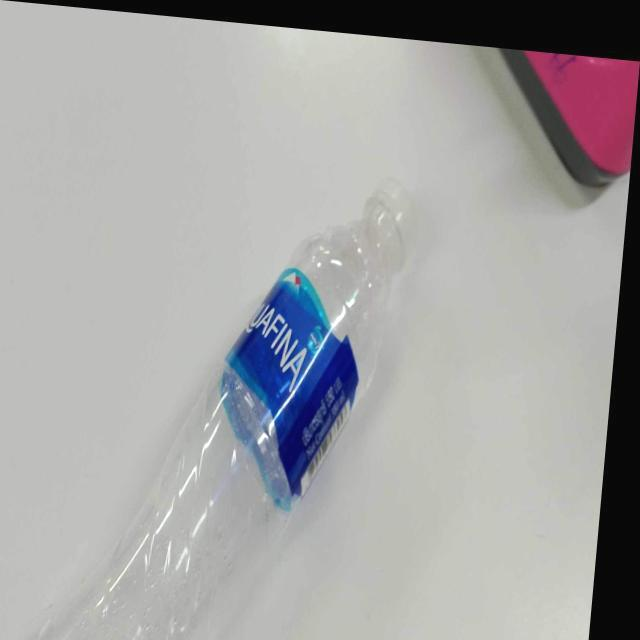General: (215, 176, 420, 513)
Sharps: (38, 175, 417, 638), (497, 47, 638, 188)
